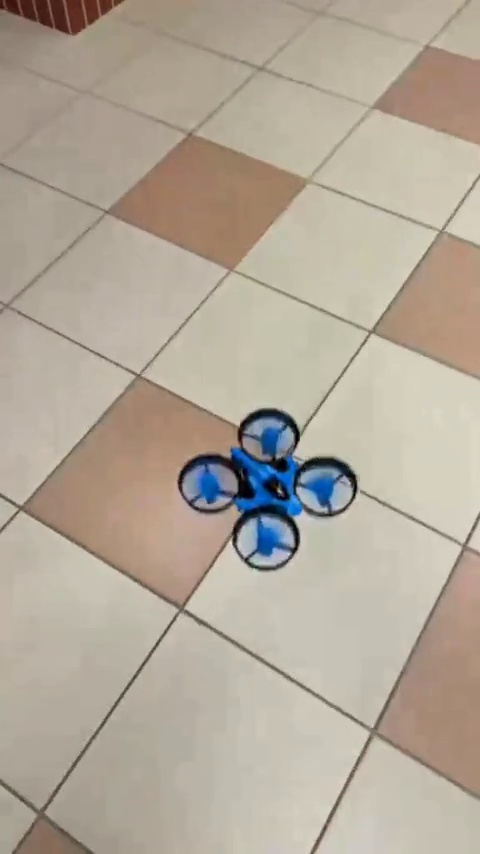drone: (179, 411, 364, 572)
